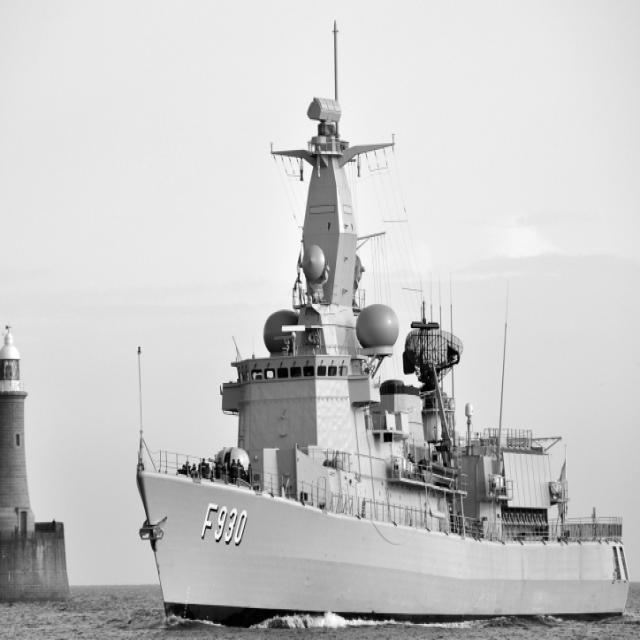Fragata: (133, 16, 636, 636)
